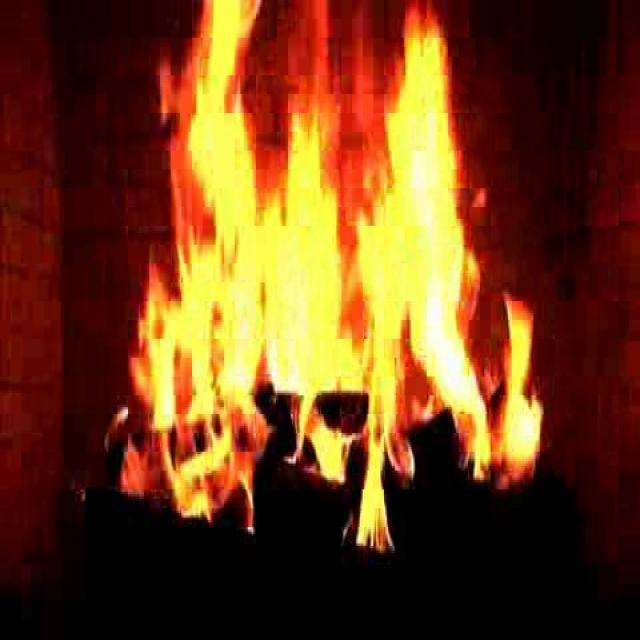fire: (132, 4, 546, 502)
